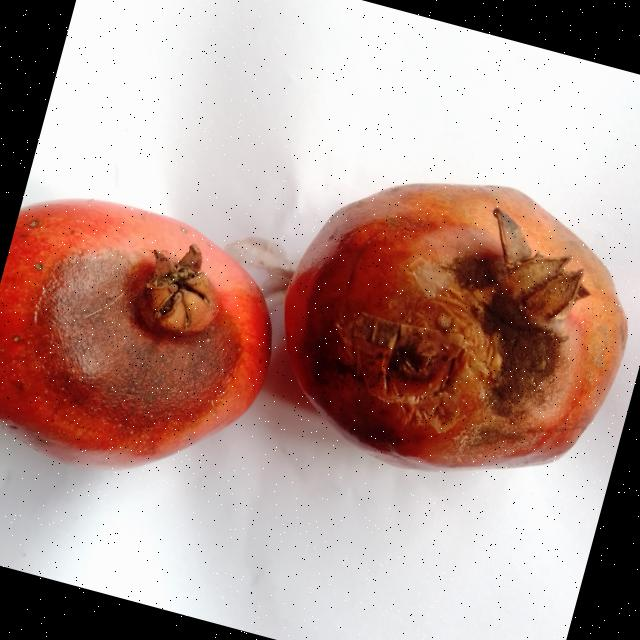Rotten: (253, 133, 640, 518), (0, 171, 299, 511)
